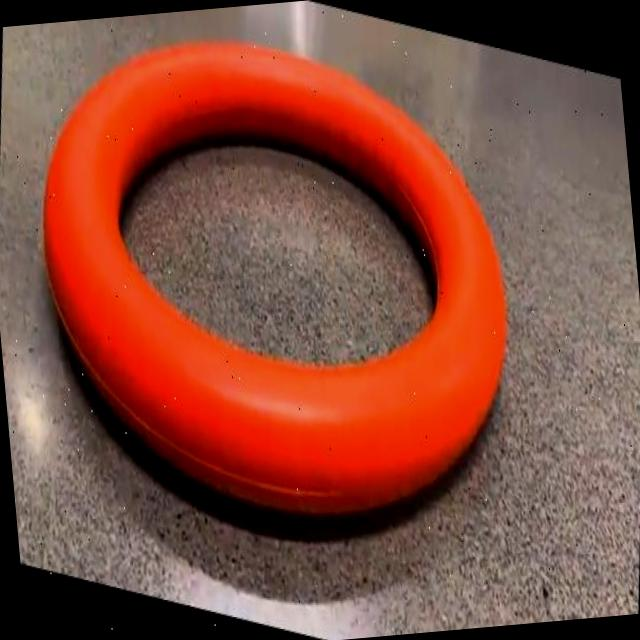note: (43, 42, 505, 512)
